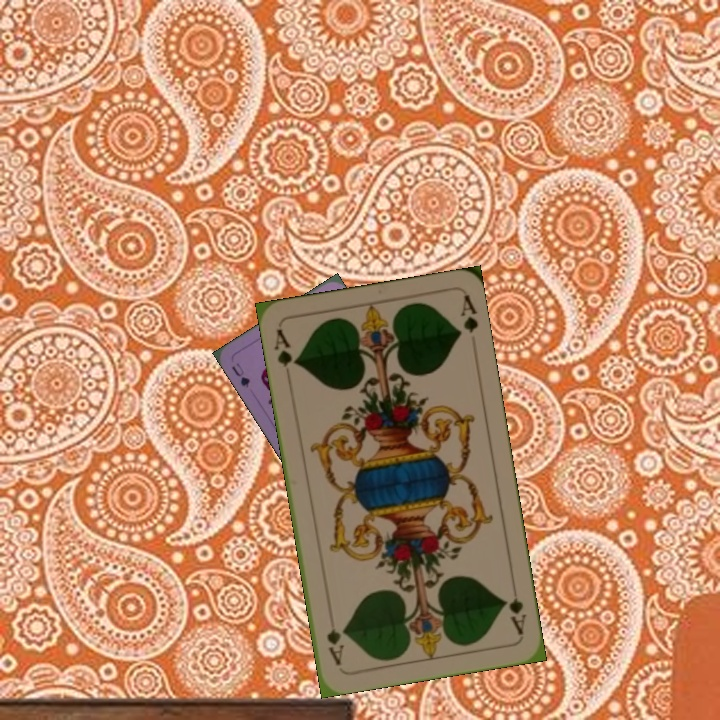GA: (269, 325, 300, 369), (500, 594, 530, 638)
GU: (228, 359, 253, 390)
